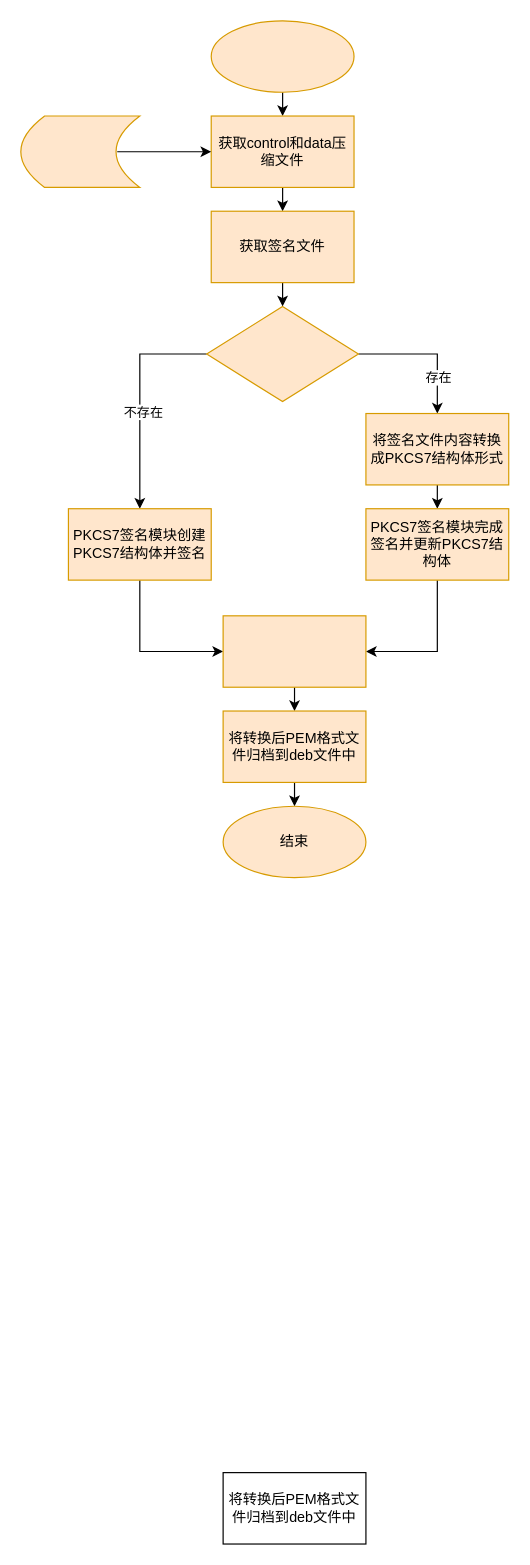
This 530x1565 diagram has some shape labels left out. Each missing label, with the centre of its shape:
deb文件: the point at 80,151
PKCS7结构体转换为PEM格式文件: the point at 294,651
开始: the point at 282,56
是否存在签名文件: the point at 282,353
